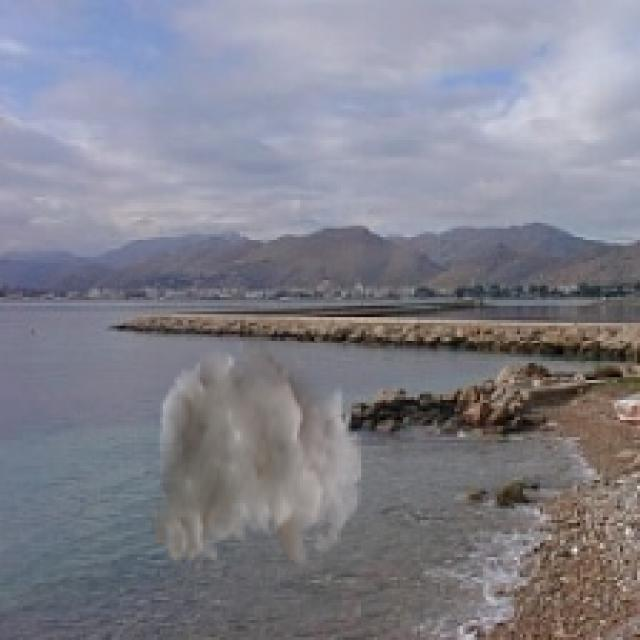smoke: (148, 320, 363, 574)
